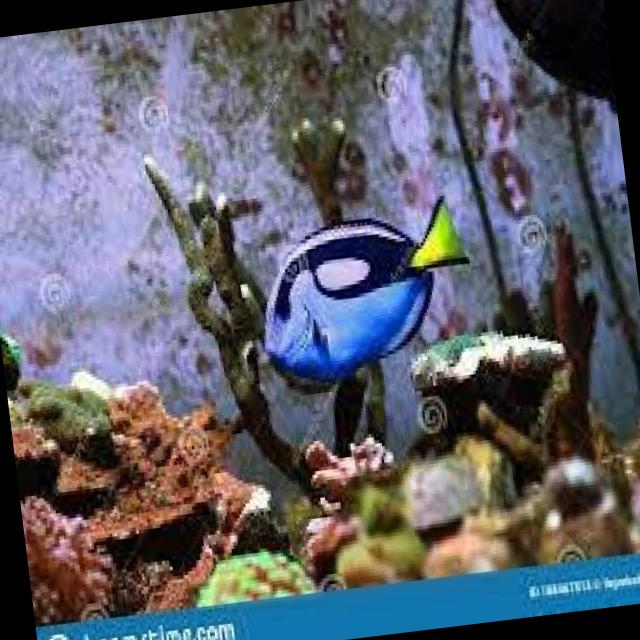TangFish: (246, 192, 481, 388)
